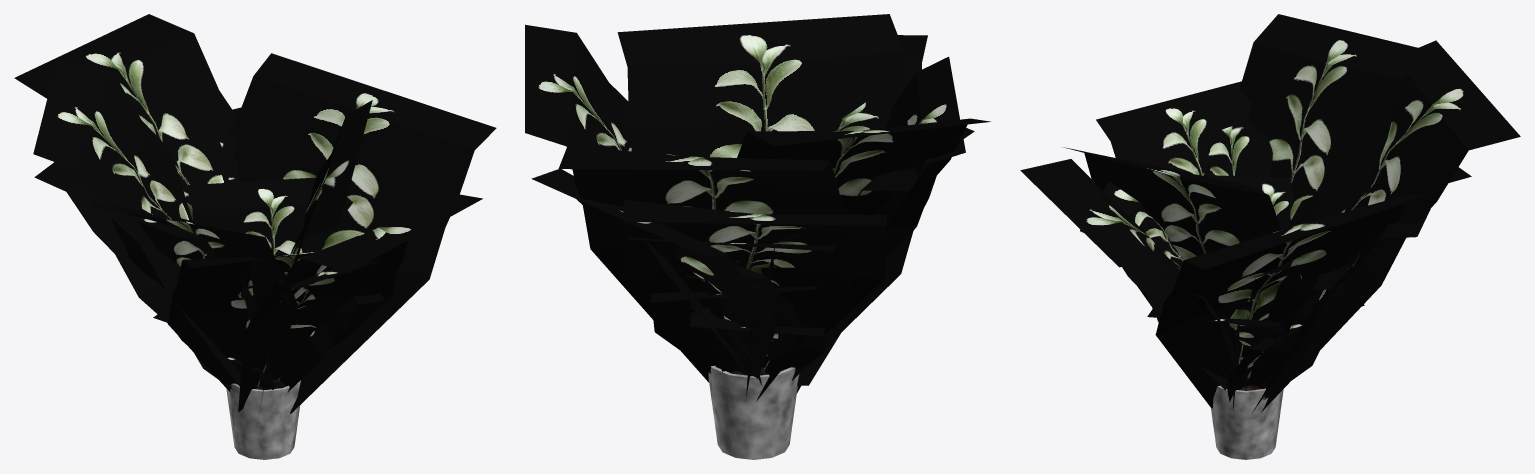
Rendered from plant_7.glb.
The picture shows the model from 3 angles, left to right: view 1: azimuth 30°, elevation 25°; view 2: azimuth 150°, elevation 25°; view 3: azimuth 270°, elevation 25°; orthographic projection. The views are drawn at different scales.
Parts seen in each view (by area): view 1: plant_7; view 2: plant_7; view 3: plant_7.
Part boxes in pixels (left/top/right/bottom): plant_7: left=14, top=14, right=496, bottom=459; plant_7: left=525, top=14, right=990, bottom=459; plant_7: left=1020, top=14, right=1520, bottom=459.
Size of what is drawn, in the model's own units: 1.4 by 1.09 by 1.44.
2 materials, 2 textured.
